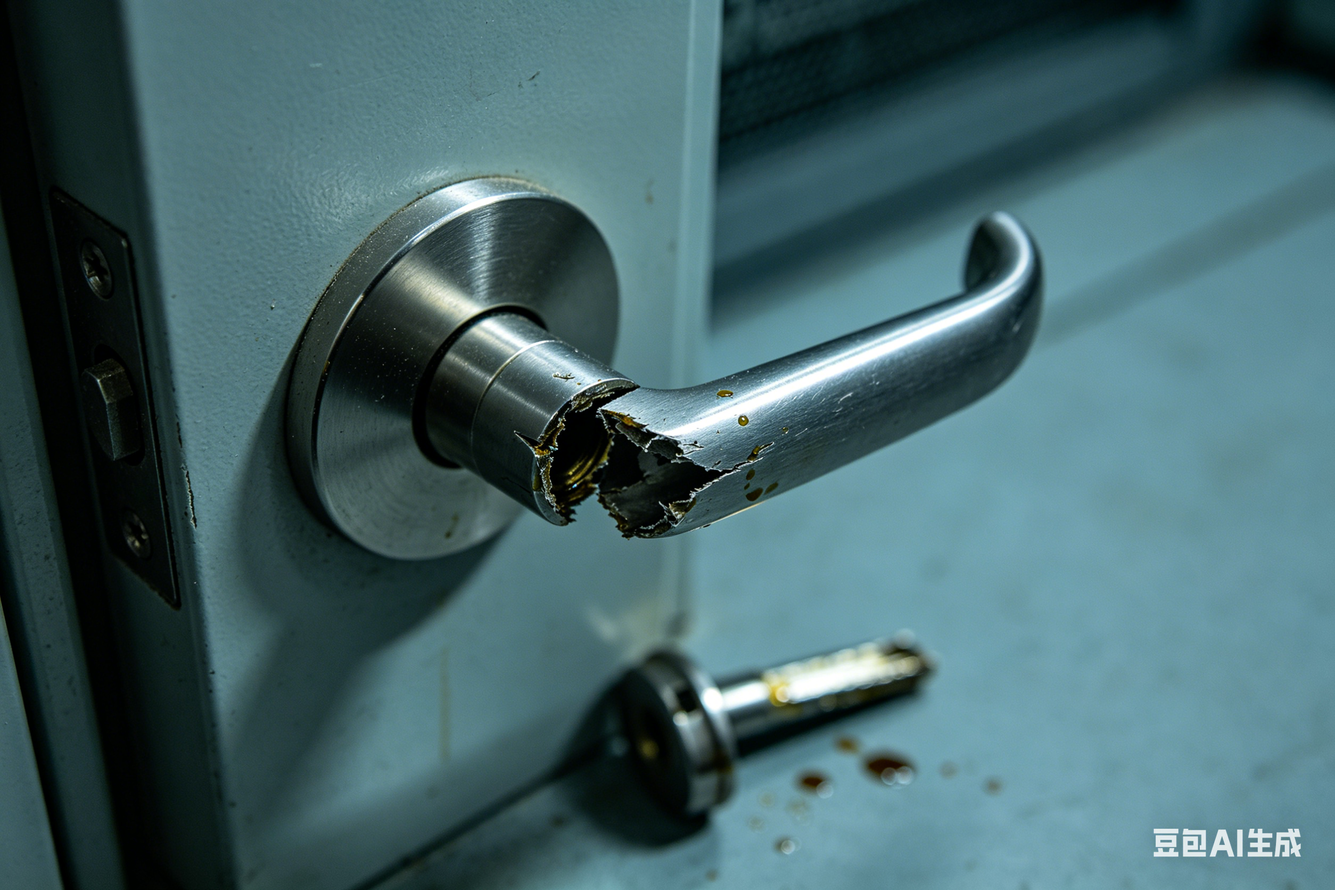BadLock: (524, 366, 709, 548)
